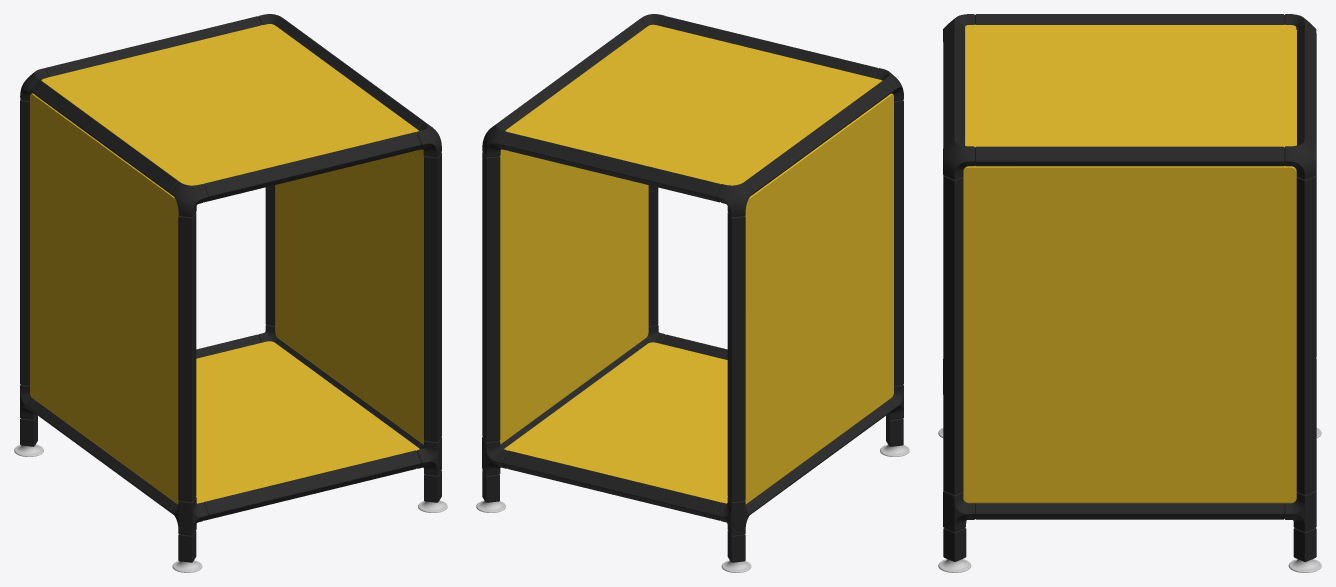
The picture shows the model from 3 angles, left to right: view 1: azimuth 30°, elevation 25°; view 2: azimuth 150°, elevation 25°; view 3: azimuth 270°, elevation 25°; orthographic projection. The views are drawn at different scales.
Visible parts, largest first — view 1: 329x374x420; view 2: 329x374x420; view 3: 329x374x420.
Boxes of the visible parts, <box> form: 329x374x420: <box>14,14,447,572</box>; 329x374x420: <box>476,14,909,572</box>; 329x374x420: <box>938,14,1321,572</box>.
Size of the model in its own units: 0.4189 by 0.5593 by 0.4632.
